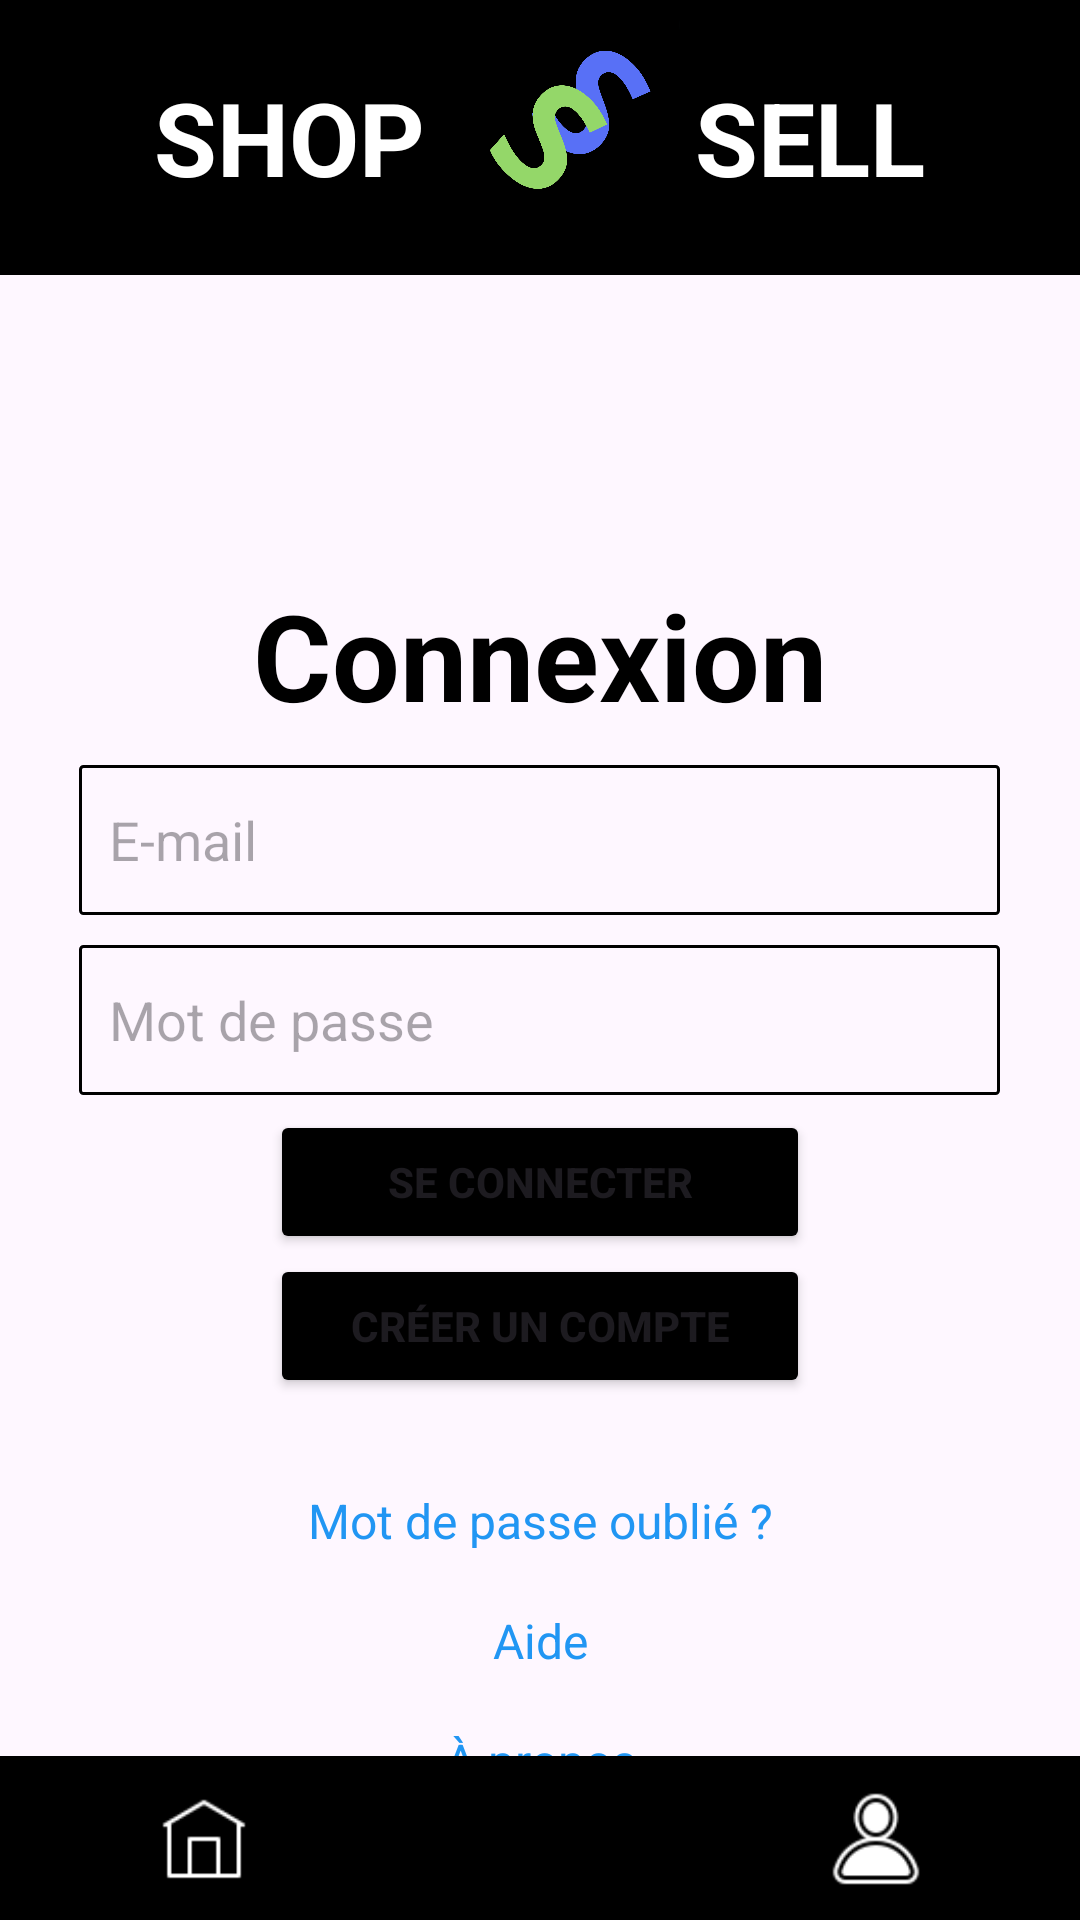

Locate icon controls on the screen. Image size 1080px×1920px, boxes as {"x1": x1, "y1": y1, "x2": x2, "y2": y2}.
Bouton d'accueil: {"x1": 162, "y1": 1799, "x2": 246, "y2": 1879}
Bouton Profil Utilisateur: {"x1": 832, "y1": 1793, "x2": 920, "y2": 1885}
